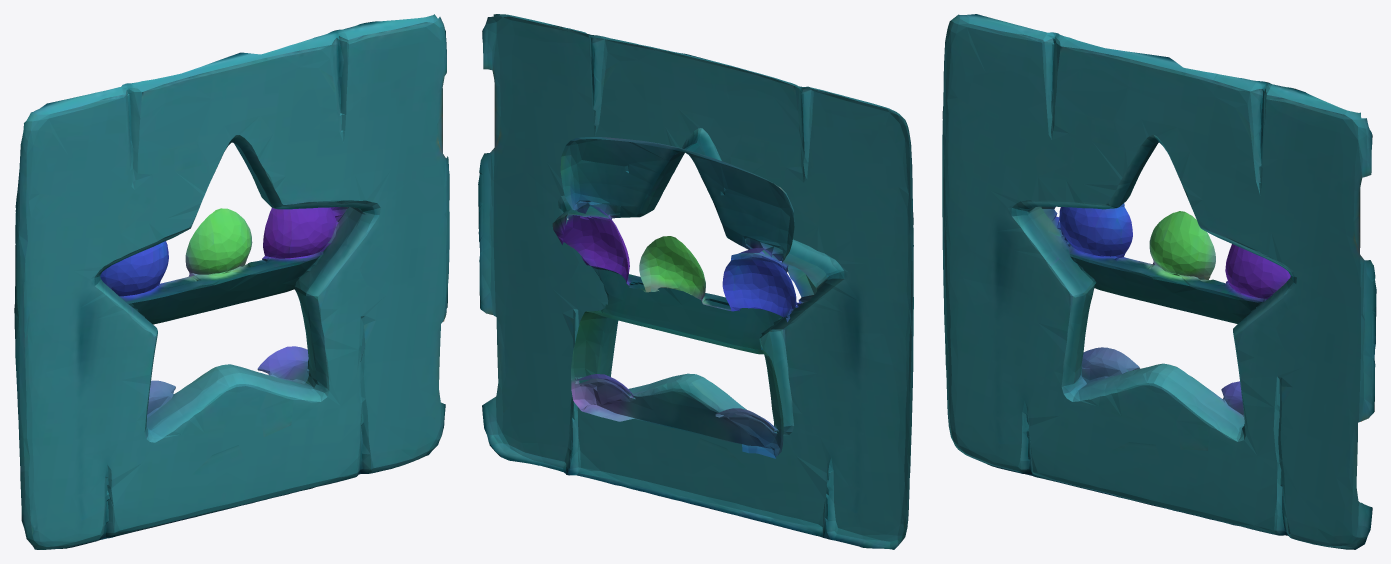
The model's file is door_main.glb.
3 renders of one model, left to right at view 1: azimuth 30°, elevation 25°; view 2: azimuth 150°, elevation 25°; view 3: azimuth 330°, elevation 25°, orthographic.
Parts seen in each view (by area): view 1: source_surface_0; view 2: source_surface_0; view 3: source_surface_0.
Boxes of the visible parts, x1,y1,x2,y2 form: source_surface_0: (14, 14, 449, 549); source_surface_0: (478, 14, 913, 549); source_surface_0: (942, 14, 1376, 549).
Size of the model in its own units: 0.1223 by 0.1215 by 0.0116.
Materials: 1 (1 with a texture image).
